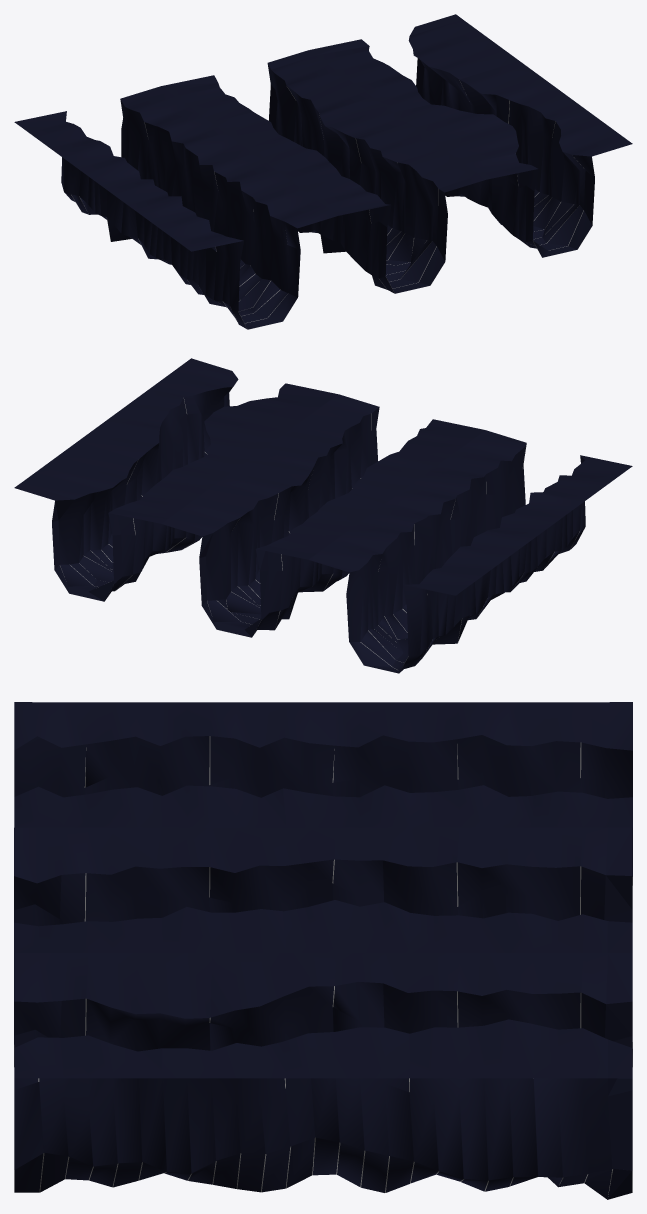
The model's file is trap.FBX.
3 renders of one model, top to bottom at view 1: azimuth 30°, elevation 25°; view 2: azimuth 150°, elevation 25°; view 3: azimuth 270°, elevation 25°, orthographic. The views are drawn at different scales.
Visible parts, largest first — view 1: straight003, straight001, straight002; view 2: straight003, straight002, straight001; view 3: straight002, straight001, straight003.
Part boxes in pixels (bbox=[...]): straight003: bbox=[14, 86, 337, 329]; straight001: bbox=[161, 50, 485, 293]; straight002: bbox=[309, 14, 632, 257]; straight003: bbox=[309, 430, 632, 673]; straight002: bbox=[14, 358, 337, 601]; straight001: bbox=[161, 394, 485, 637]; straight002: bbox=[14, 953, 632, 1199]; straight001: bbox=[14, 827, 632, 1066]; straight003: bbox=[14, 702, 632, 885].
Size of the model in its own units: 4.57 by 0.9882 by 3.18.
